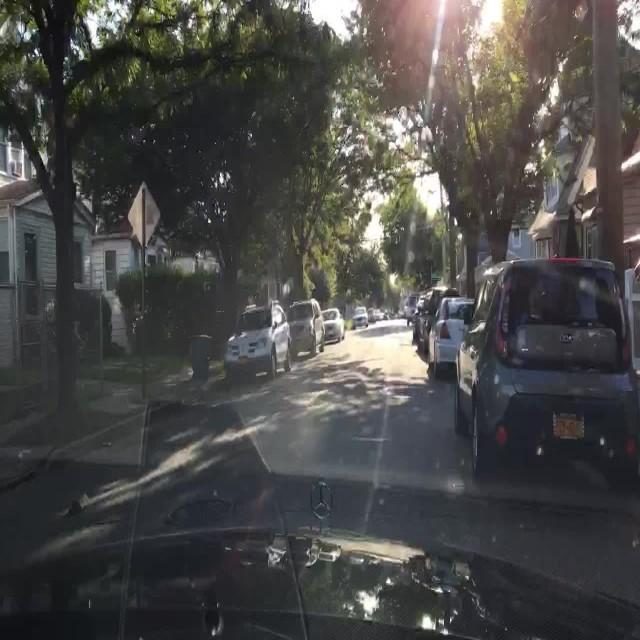normal: (227, 303, 295, 382), (425, 297, 472, 379), (287, 301, 324, 360), (323, 307, 347, 342), (351, 307, 369, 331)
